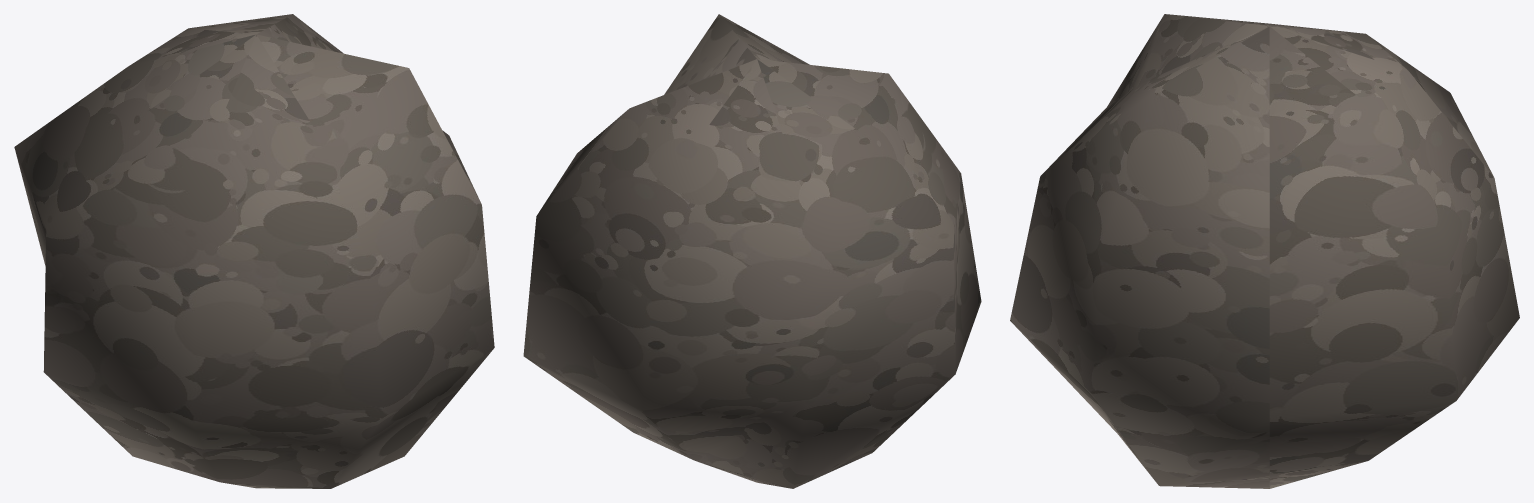
The model's file is rock_a_L1.obj.
3 views of the same model, side by side, from view 1: azimuth 30°, elevation 25°; view 2: azimuth 150°, elevation 25°; view 3: azimuth 270°, elevation 25° (orthographic). The views are drawn at different scales.
Size of the model in its own units: 1.94 by 2 by 2.
Materials: 1 (1 with a texture image).
